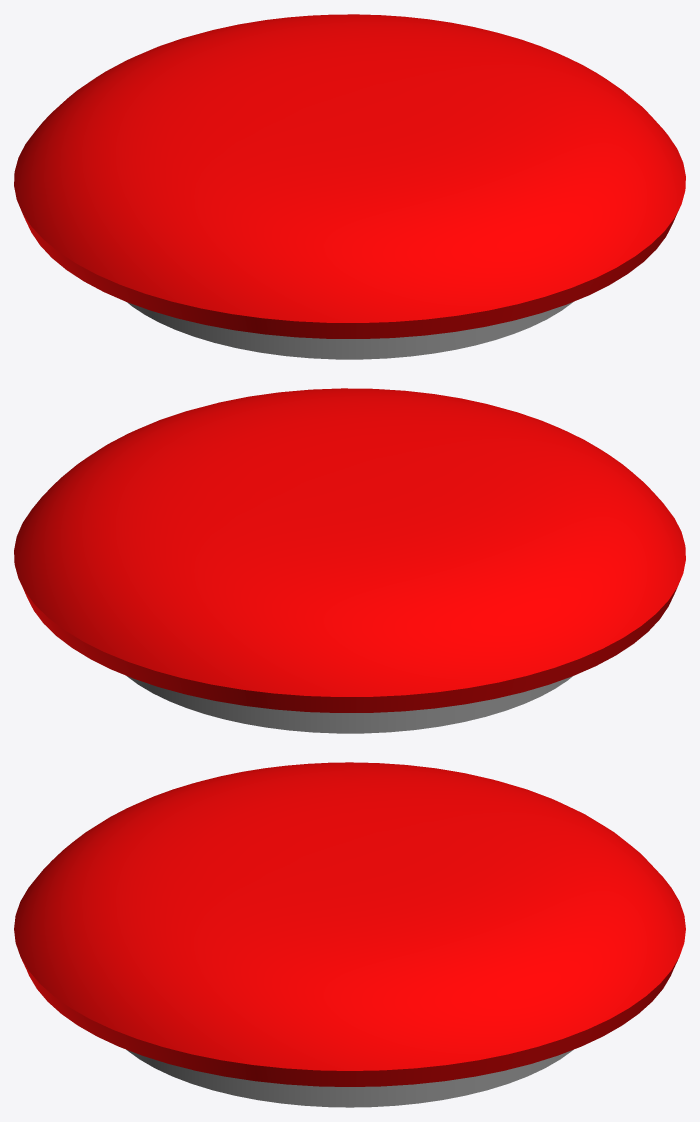
The model's file is 1079_magnet.glb.
3 renders of one model, top to bottom at view 1: azimuth 30°, elevation 25°; view 2: azimuth 150°, elevation 25°; view 3: azimuth 270°, elevation 25°, orthographic.
Visible parts, largest first — view 1: Body; view 2: Body; view 3: Body.
Part boxes in pixels (x1,y1,x2,y2): Body: [14, 14, 685, 359]; Body: [14, 388, 685, 733]; Body: [14, 762, 685, 1107].
Bounding box in the file's own units: 0.0535 × 0.0132 × 0.0535.
